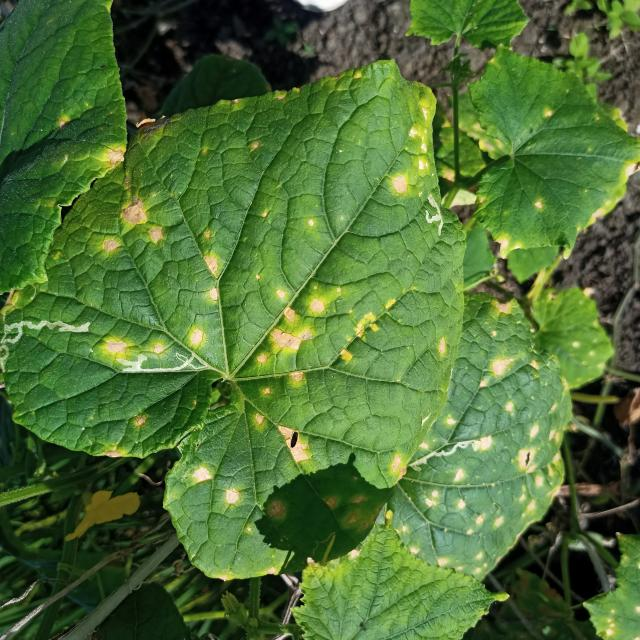disease_cucumber: (74, 100, 439, 524), (403, 333, 572, 574)
